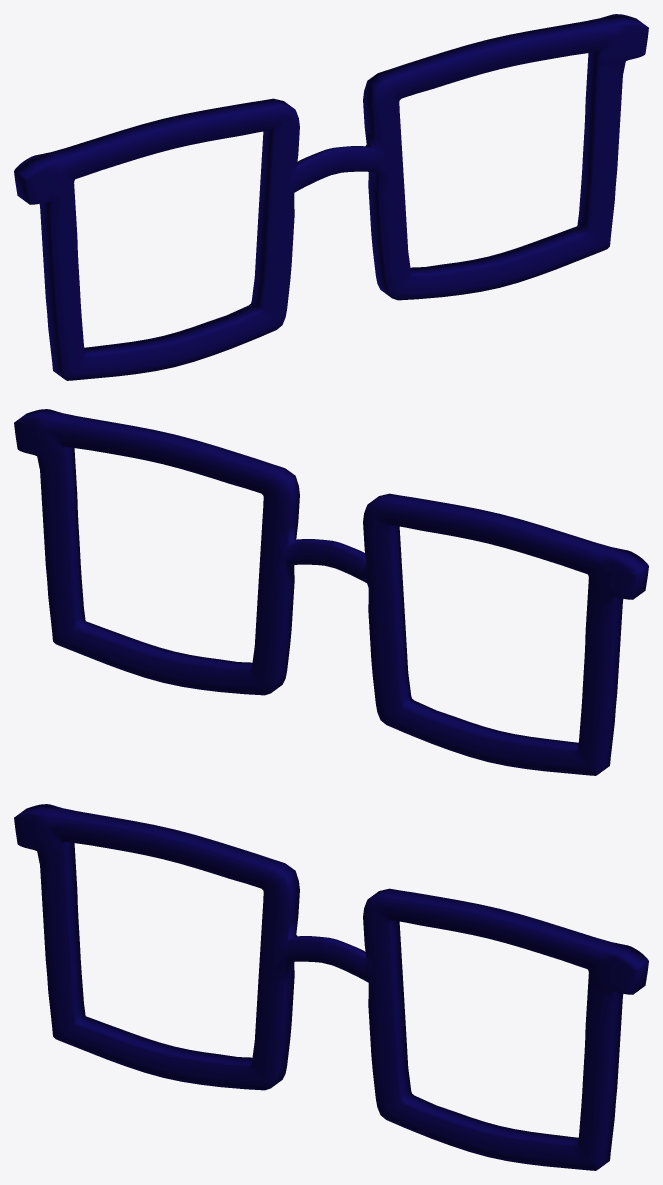
The model's file is Dooleys_glasses_v7.fbx.
3 renders of one model, top to bottom at view 1: azimuth 30°, elevation 25°; view 2: azimuth 150°, elevation 25°; view 3: azimuth 330°, elevation 25°, orthographic.
Parts seen in each view (by area): view 1: Glasses; view 2: Glasses; view 3: Glasses.
Boxes of the visible parts, left/top/right/bottom form: Glasses: left=14, top=14, right=648, bottom=380; Glasses: left=14, top=409, right=648, bottom=775; Glasses: left=14, top=804, right=648, bottom=1170.
Size of the model in its own units: 104 by 38.12 by 4.55.
